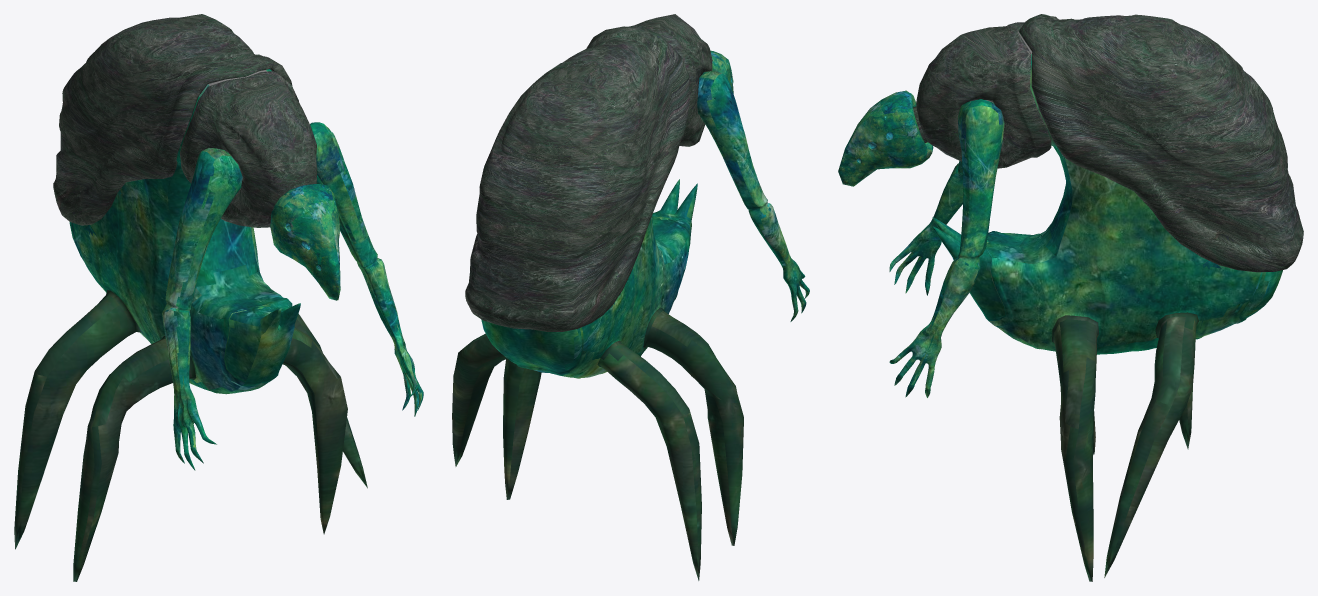
File: Andar.0012.obj
3 renders of one model, left to right at view 1: azimuth 30°, elevation 25°; view 2: azimuth 150°, elevation 25°; view 3: azimuth 270°, elevation 25°, orthographic. The views are drawn at different scales.
Visible parts, largest first — view 1: pCube14; view 2: pCube14; view 3: pCube14.
Boxes of the visible parts, <box> form: pCube14: <box>14,14,423,581</box>; pCube14: <box>452,14,809,580</box>; pCube14: <box>838,14,1303,581</box>.
Size of the model in its own units: 2.44 by 3.92 by 3.29.
5 materials, 4 textured.
